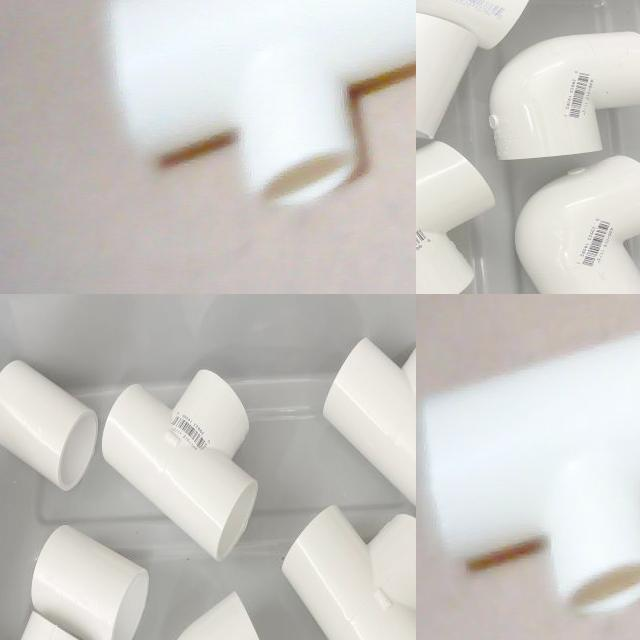L Joint: (492, 32, 640, 165), (514, 156, 640, 294)
T Joint: (420, 333, 640, 617), (102, 370, 259, 563), (279, 506, 416, 640), (323, 339, 416, 510), (416, 142, 497, 294)
